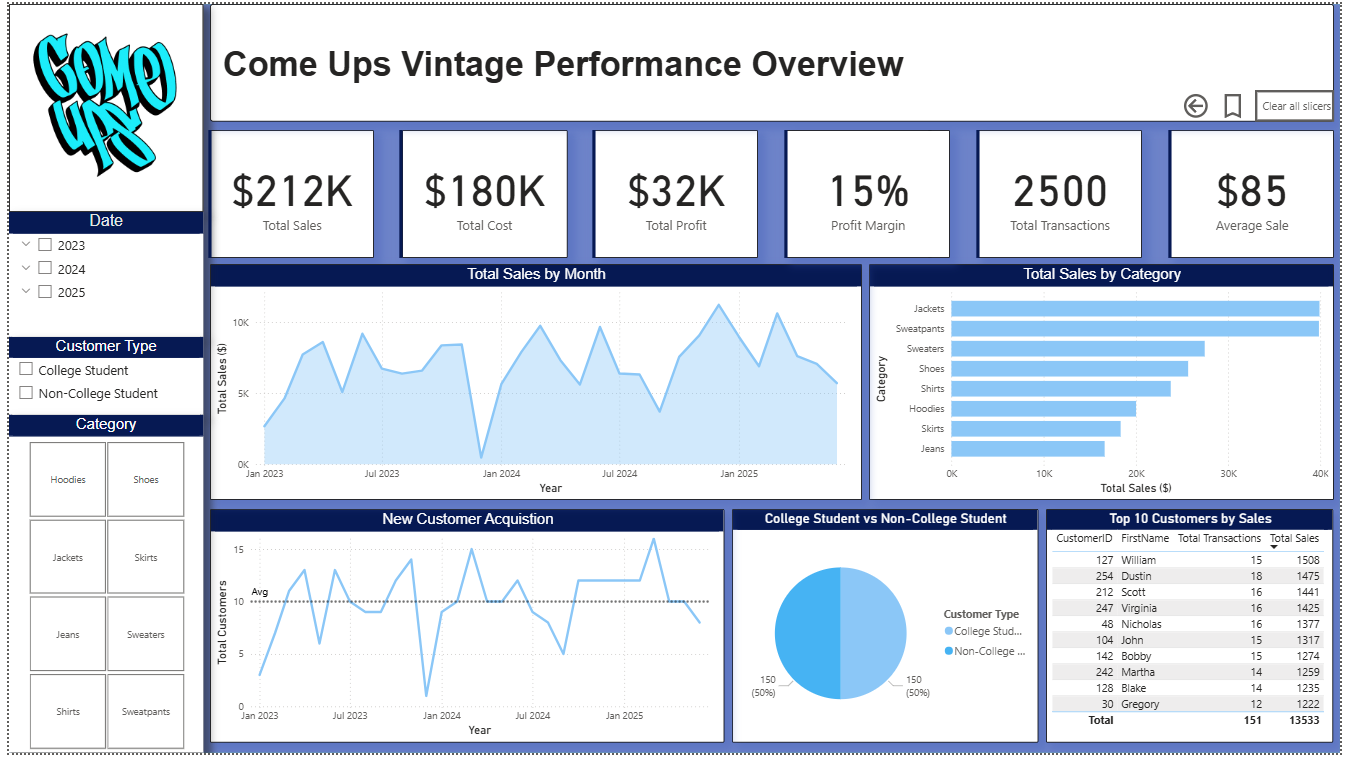

What the dashboard file says about the page in this screenshot:
{"tool":"powerbi","page":{"name":"Performance Overview","canvas":[1664,936],"ordinal":0},"visuals":[{"type":"shape","box":[0,0,1664.3,936],"z":0},{"type":"card","fields":{"Values":["transactions.Total Sales"]},"box":[250.9,157.6,205.4,159.9],"z":1000},{"type":"card","fields":{"Values":["transactions.Total Transactions"]},"box":[1211,157.6,205.4,159.9],"z":2000},{"type":"card","fields":{"Values":["customers.Average Sale"]},"box":[1450.7,157.6,205.4,159.9],"z":3000},{"type":"card","fields":{"Values":["transactions.Total Cost"]},"box":[490.6,157.6,206.6,159.9],"z":4000},{"type":"card","fields":{"Values":["transactions.Total Profit"]},"box":[731.5,157.6,205.4,159.9],"z":5000},{"type":"clusteredBarChart","fields":{"Y":["transactions.Total Sales"],"Category":["products.Category"]},"box":[1074.9,325.6,581.2,295.3],"z":6000},{"type":"shape","box":[0,0,242.8,936],"z":6500},{"type":"pieChart","fields":{"Category":["customers.Customer Type"],"Y":["customers.Total Customers"]},"box":[903.3,631.4,382.8,291.8],"z":7000},{"type":"tableEx","fields":{"Values":["customers.CustomerID","customers.FirstName","transactions.Total Transactions","transactions.Total Sales"]},"box":[1296.6,631.4,359.5,291.8],"z":8000},{"type":"lineChart","fields":{"Y":["customers.Total Customers"],"Category":["date_dim.Date.Variation.Date Hierarchy.Year","date_dim.Date.Variation.Date Hierarchy.Month"]},"box":[250.9,631.4,643.1,291.8],"z":9000},{"type":"areaChart","fields":{"Category":["date_dim.Date.Variation.Date Hierarchy.Year","date_dim.Date.Variation.Date Hierarchy.Month"],"Y":["transactions.Total Sales"]},"box":[250.9,325.6,814.6,295.3],"z":10000},{"type":"shape","box":[250.9,0,1405.2,147.1],"z":11000},{"type":"shape","box":[471.5,157.6,37.3,159.9],"z":13000},{"type":"shape","box":[713.1,157.6,37.3,159.9],"z":14000},{"type":"shape","box":[1132.1,157.6,37.3,159.9],"z":15000},{"type":"shape","box":[1432,157.6,37.3,159.9],"z":16000},{"type":"image","box":[0,0,242.8,260.3],"z":17000},{"type":"textbox","box":[262.6,51.4,1051.5,75.9],"z":18000},{"type":"actionButton","box":[1556.9,107.4,99.2,39.7],"z":19000},{"type":"actionButton","box":[1510.2,107.4,46.7,39.7],"z":20000},{"type":"slicer","title":"Date","fields":{"Values":["date_dim.Date.Variation.Date Hierarchy.Year","date_dim.Date.Variation.Date Hierarchy.Quarter","date_dim.Date.Variation.Date Hierarchy.Month"]},"box":[0,260.3,242.8,156.4],"z":20500},{"type":"actionButton","box":[1463.5,107.4,46.7,39.7],"z":21000},{"type":"slicer","title":"Customer Type","fields":{"Values":["customers.Customer Type"]},"box":[0,416.6,242.8,96.9],"z":21500},{"type":"slicer","title":"Category","fields":{"Values":["products.Category"]},"box":[0,513.5,242.8,422.5],"z":22000},{"type":"card","fields":{"Values":["transactions.Profit Margin"]},"box":[971.2,157.6,205.4,159.9],"z":25000},{"type":"shape","box":[952.3,157.6,37.3,159.9],"z":26000},{"type":"shape","box":[1192.8,157.6,37.3,159.9],"z":27000},{"type":"shape","box":[232.2,157.6,37.3,159.9],"z":28000}]}

Visuals, with their boxes in screenshot pixels (x1, y1, x2, y2):
shape: bbox(7, 4, 1335, 750)
card - transactions.Total Sales: bbox(207, 129, 371, 257)
card - transactions.Total Transactions: bbox(973, 129, 1137, 257)
card - customers.Average Sale: bbox(1164, 129, 1328, 257)
card - transactions.Total Cost: bbox(398, 129, 563, 257)
card - transactions.Total Profit: bbox(591, 129, 754, 257)
clusteredBarChart - transactions.Total Sales x products.Category: bbox(864, 263, 1328, 499)
shape: bbox(7, 4, 201, 750)
pieChart - customers.Customer Type x customers.Total Customers: bbox(728, 507, 1033, 740)
tableEx - customers.CustomerID x customers.FirstName: bbox(1041, 507, 1328, 740)
lineChart - customers.Total Customers x date_dim.Date.Variation.Date Hierarchy.Year: bbox(207, 507, 720, 740)
areaChart - date_dim.Date.Variation.Date Hierarchy.Year x date_dim.Date.Variation.Date Hierarchy.Month: bbox(207, 263, 857, 499)
shape: bbox(207, 4, 1328, 121)
shape: bbox(383, 129, 413, 257)
shape: bbox(576, 129, 606, 257)
shape: bbox(910, 129, 940, 257)
shape: bbox(1149, 129, 1179, 257)
image: bbox(7, 4, 201, 211)
textbox: bbox(216, 45, 1055, 105)
actionButton: bbox(1249, 89, 1328, 121)
actionButton: bbox(1212, 89, 1249, 121)
"Date" slicer: bbox(7, 211, 201, 336)
actionButton: bbox(1174, 89, 1212, 121)
"Customer Type" slicer: bbox(7, 336, 201, 413)
"Category" slicer: bbox(7, 413, 201, 750)
card - transactions.Profit Margin: bbox(782, 129, 946, 257)
shape: bbox(767, 129, 796, 257)
shape: bbox(959, 129, 988, 257)
shape: bbox(192, 129, 222, 257)
